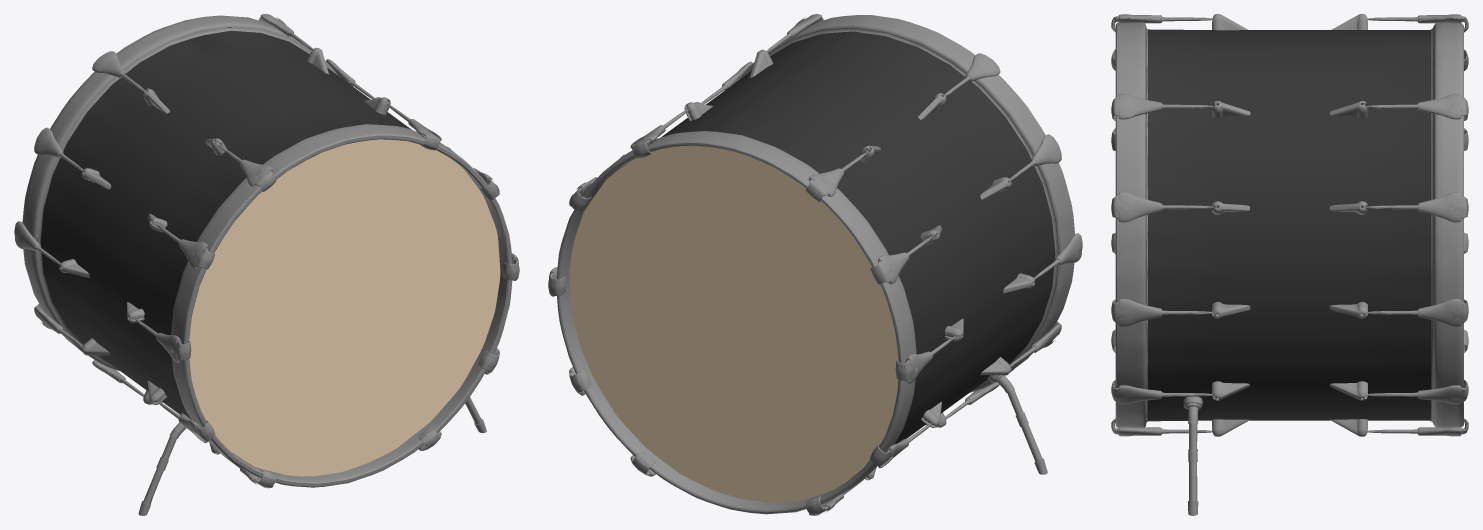
The model's file is SM_DrumKit_V1_bass_drum.FBX.
The picture shows the model from 3 angles, left to right: view 1: azimuth 30°, elevation 25°; view 2: azimuth 150°, elevation 25°; view 3: azimuth 270°, elevation 25°; orthographic projection. The views are drawn at different scales.
Visible parts, largest first — view 1: SM_DrumKit_V1_bass_drum; view 2: SM_DrumKit_V1_bass_drum; view 3: SM_DrumKit_V1_bass_drum.
Part boxes in pixels (<box>): SM_DrumKit_V1_bass_drum: <box>14,14,519,515</box>; SM_DrumKit_V1_bass_drum: <box>548,14,1082,515</box>; SM_DrumKit_V1_bass_drum: <box>1111,14,1468,515</box>.
Bounding box in the file's own units: 86 × 72.11 × 85.55.
